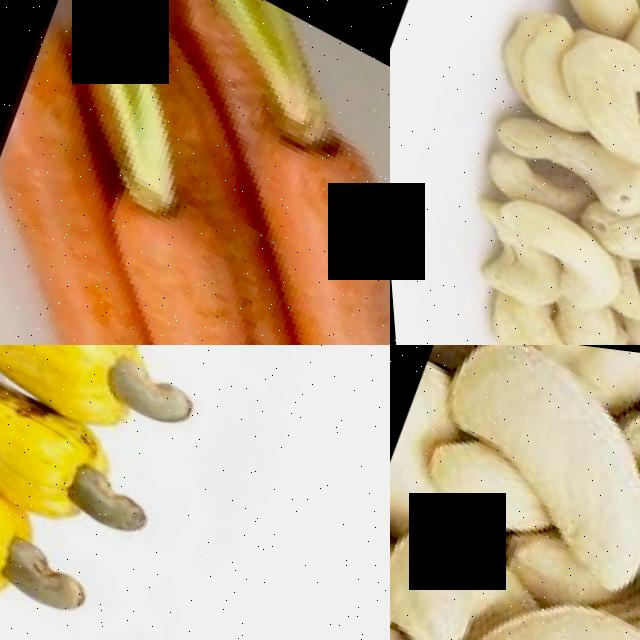carrot: (49, 118, 343, 345), (235, 16, 390, 314)
cashew: (440, 345, 640, 558), (408, 533, 640, 640), (474, 72, 640, 215), (478, 174, 638, 312), (390, 473, 521, 640), (0, 508, 131, 640), (85, 345, 226, 459), (467, 0, 596, 119), (541, 3, 640, 154), (43, 438, 162, 556), (559, 0, 640, 31)
